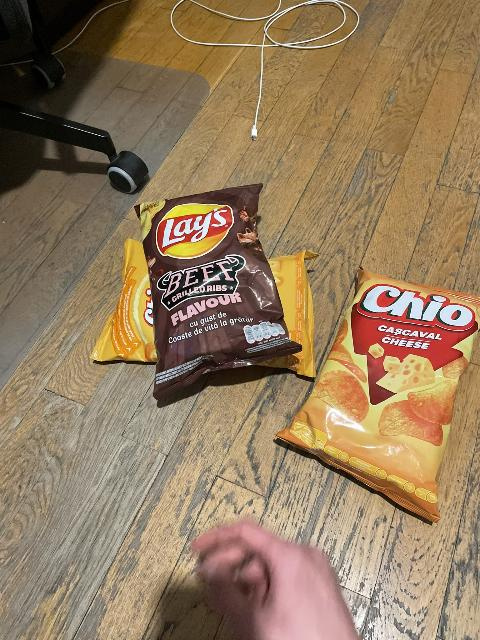Chio Cascaval 125g: (276, 262, 480, 522)
Chio Hula Hoops Cheese 70g: (92, 237, 316, 381)
Lays Beef Grilled Ribs 125g: (137, 181, 302, 402)
